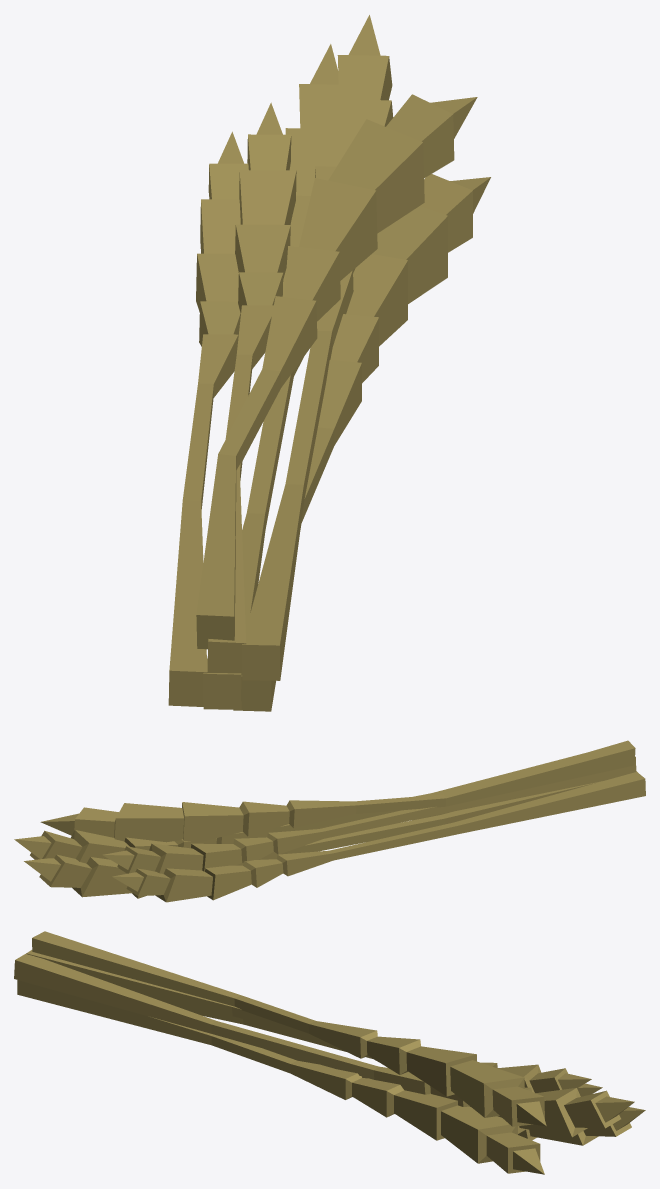
File: wheat_crop.gltf
The picture shows the model from 3 angles, top to bottom: view 1: azimuth 30°, elevation 25°; view 2: azimuth 150°, elevation 25°; view 3: azimuth 270°, elevation 25°; orthographic projection. The views are drawn at different scales.
Visible parts, largest first — view 1: wheat_crop; view 2: wheat_crop; view 3: wheat_crop.
Boxes of the visible parts, left/top/right/bottom form: wheat_crop: left=168, top=15, right=490, bottom=711; wheat_crop: left=14, top=740, right=645, bottom=902; wheat_crop: left=14, top=931, right=645, bottom=1174.
Bounding box in the file's own units: 0.5906 × 0.1048 × 0.7584.
Materials: 1 (1 with a texture image).
